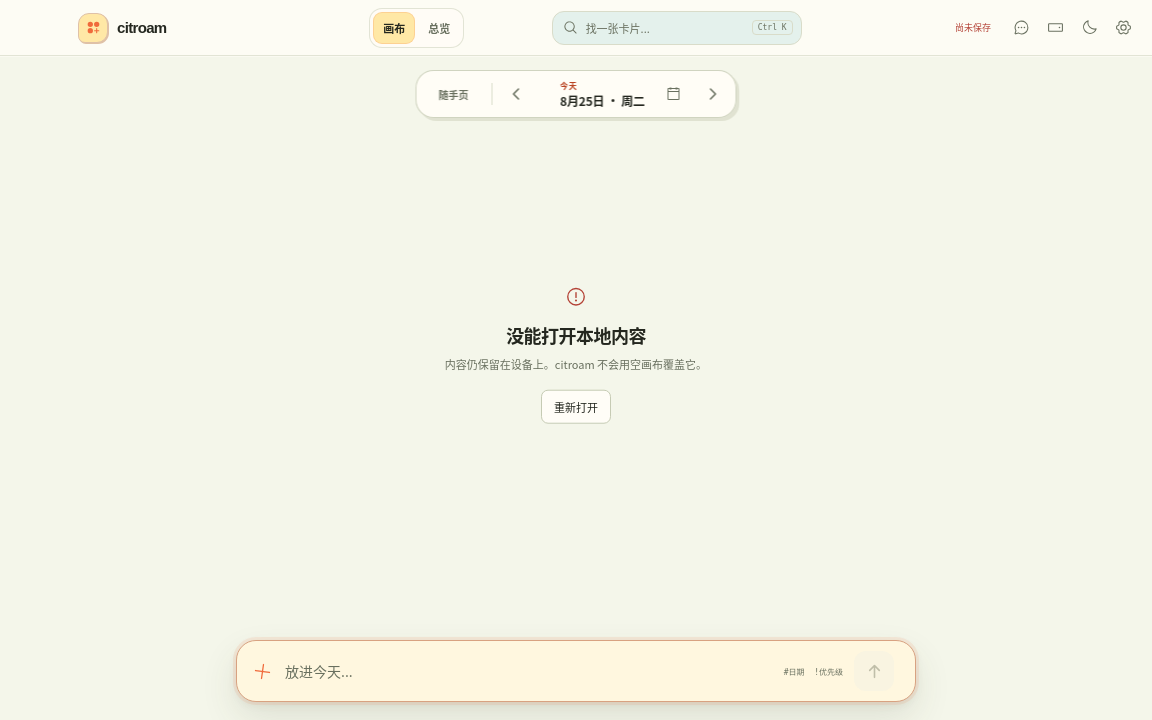
Test: date page canvas › keeps a local-content retry visible when overview opens after a load failure
This screenshot has width=1152, height=720.
Click the button "总览".
click(439, 28)  # box [418,12,460,44]
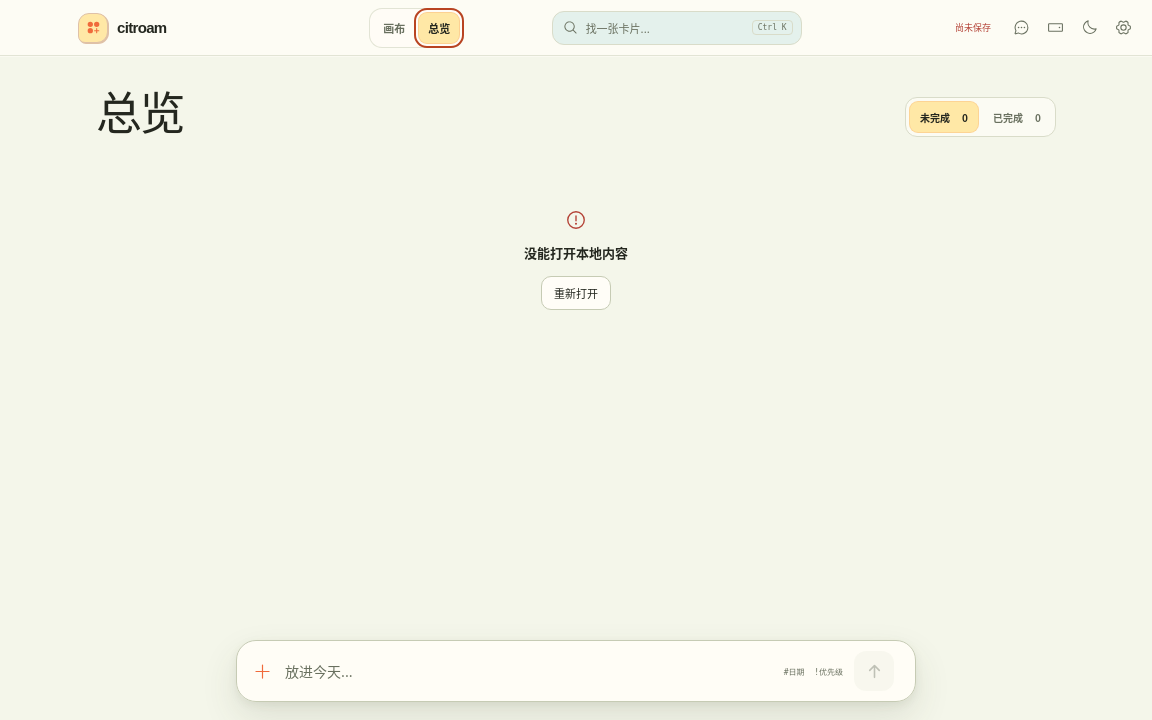
Expected: the button "重新打开" is shown, [541,276,611,310]
Now the message shows "没能打开本地内容", box [524,243,628,262]
